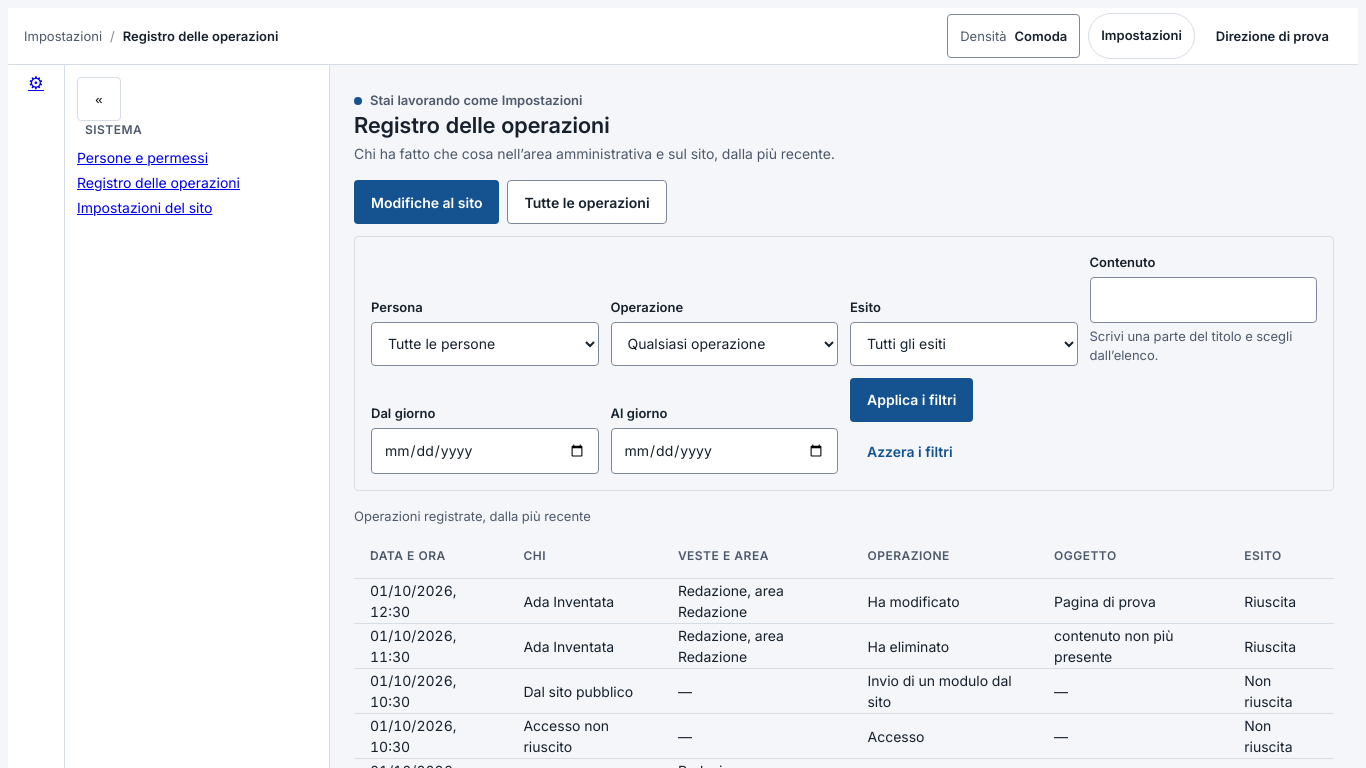
Scenario: registro delle operazioni › la ricerca del contenuto propone «titolo (Pagina|Notizia)» e si può togliere
Expected: the text "Ha modificato" is shown, [852,579,1038,624]
Type "di prova" into the field labelled "Contenuto" at (1203, 300), box [1090,277,1317,323]
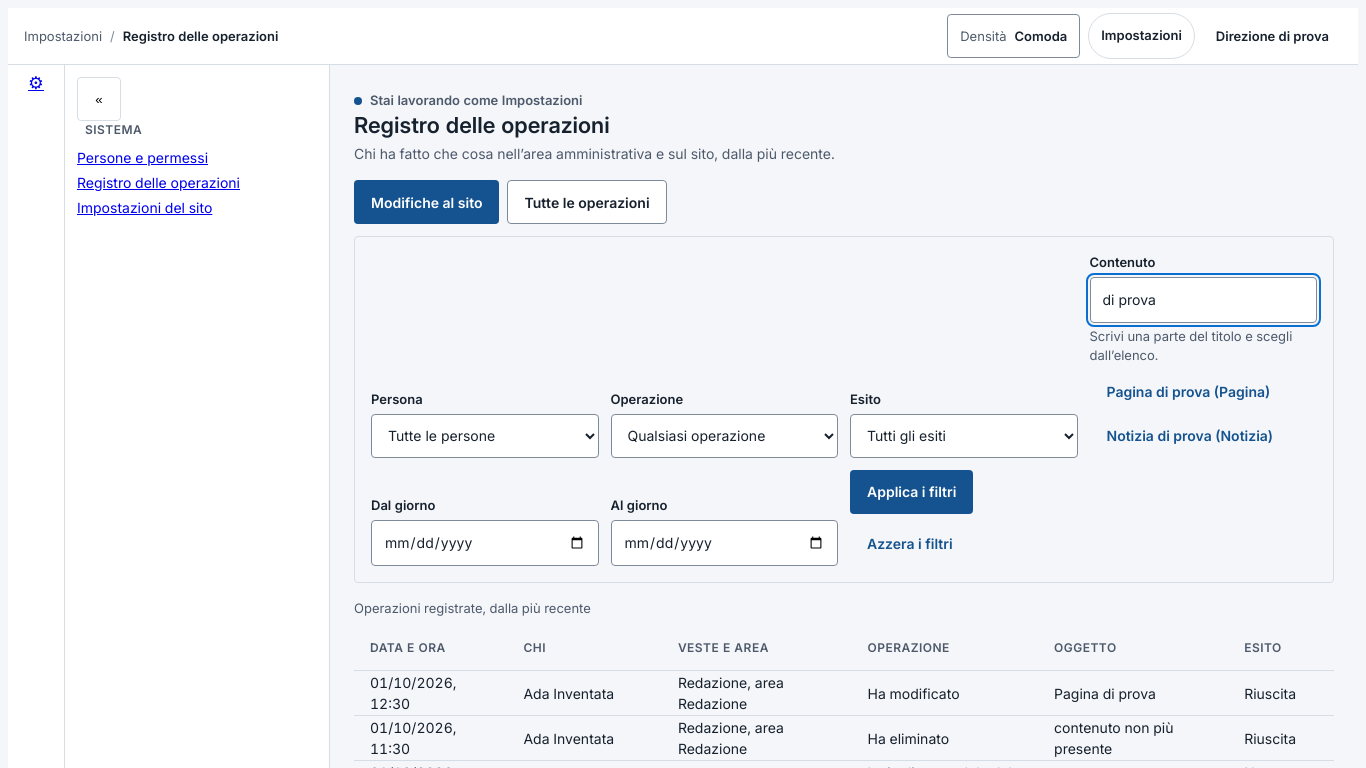
Now the button "Notizia di prova (Notizia)" is shown
Click the button "Notizia di prova (Notizia)" at (1190, 436), box [1090,414,1290,458]
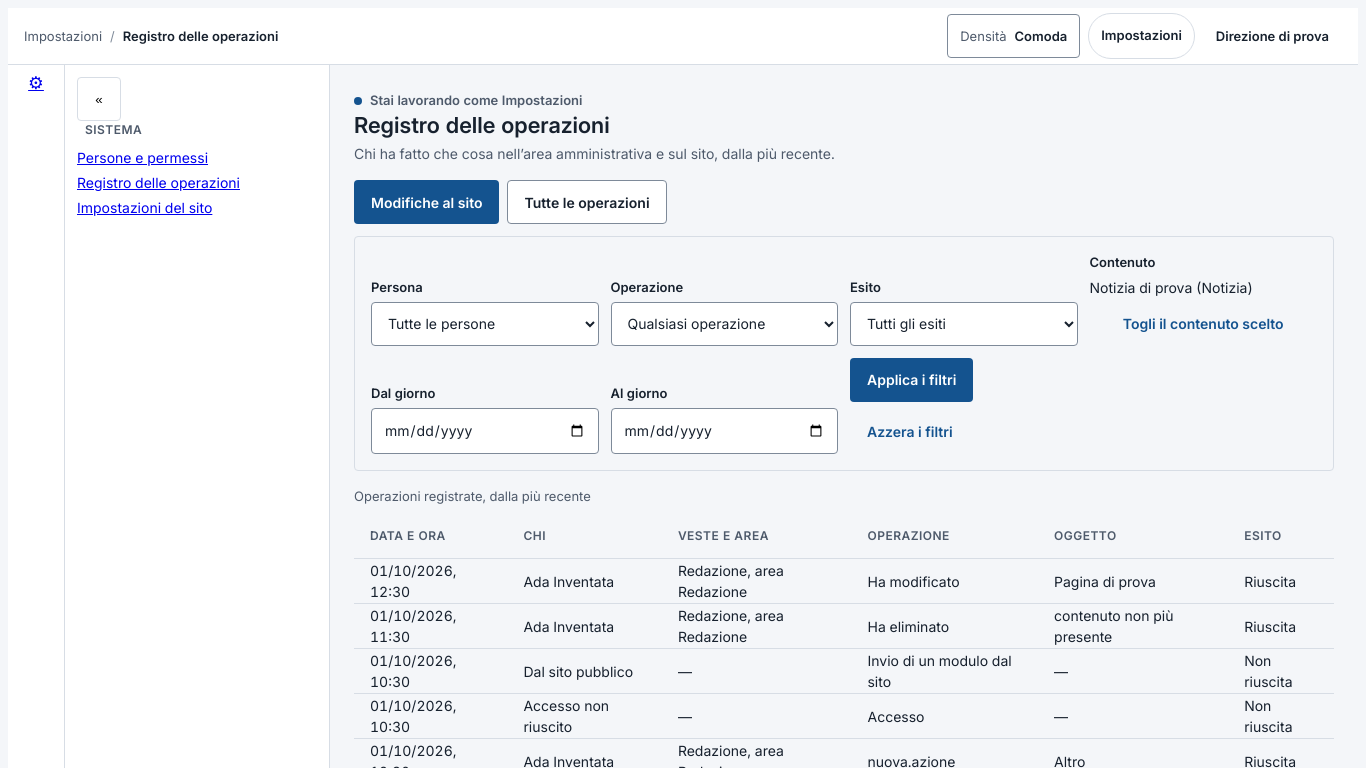
Now the text "Notizia di prova (Notizia)" is shown, box [1090,279,1253,296]
Click the button "Togli il contenuto scelto" at (1203, 324), box [1090,302,1317,346]
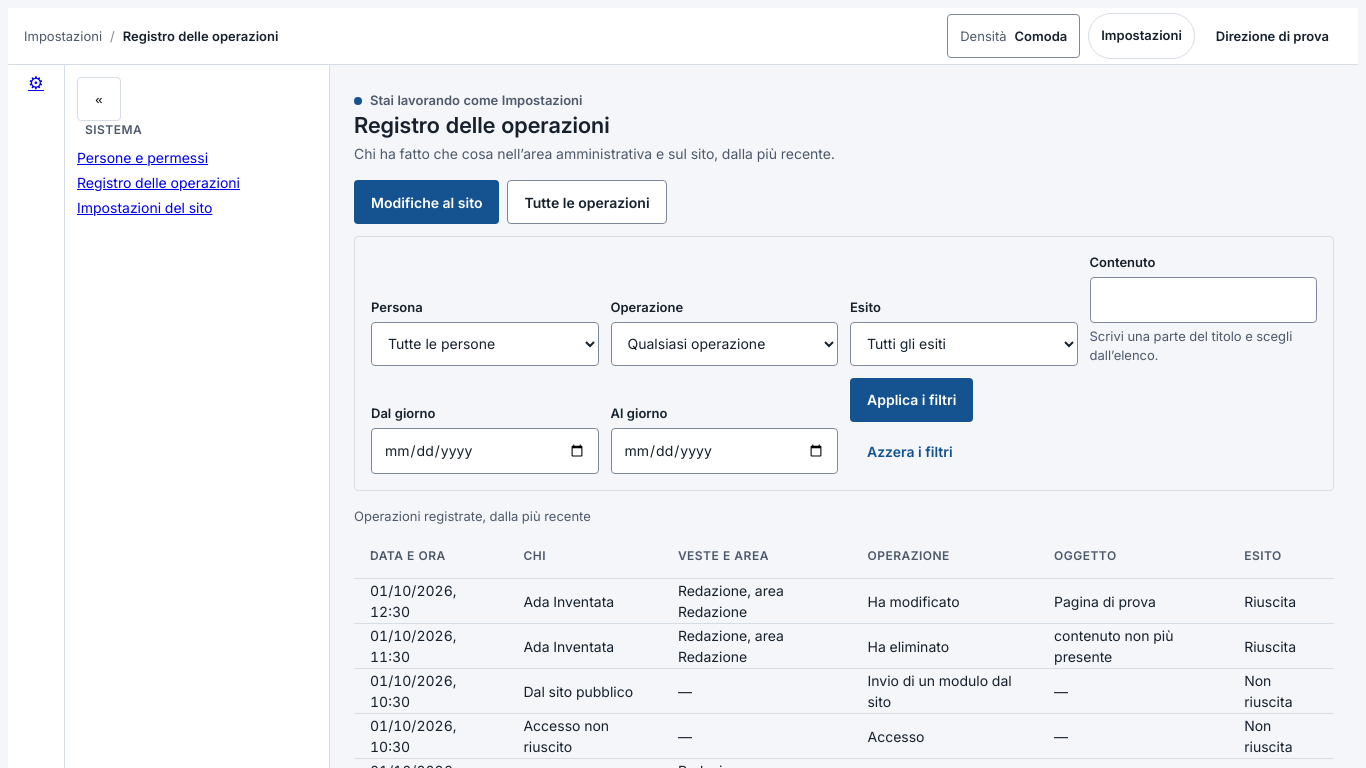
Now the field labelled "Contenuto" is shown, box [1090,277,1317,323]
